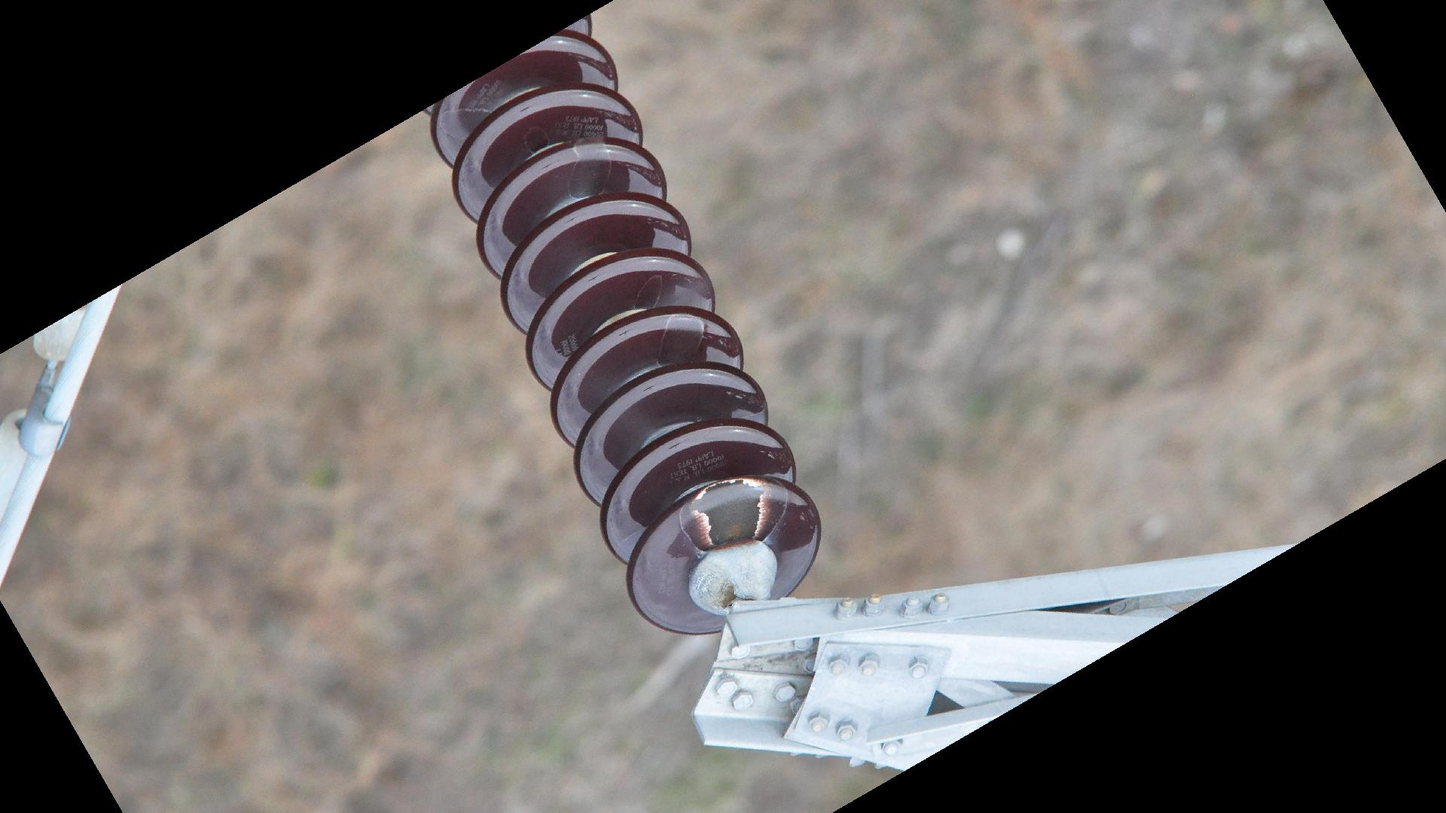insulator: (427, 1, 828, 642)
insulator_flashover: (693, 476, 768, 549)
